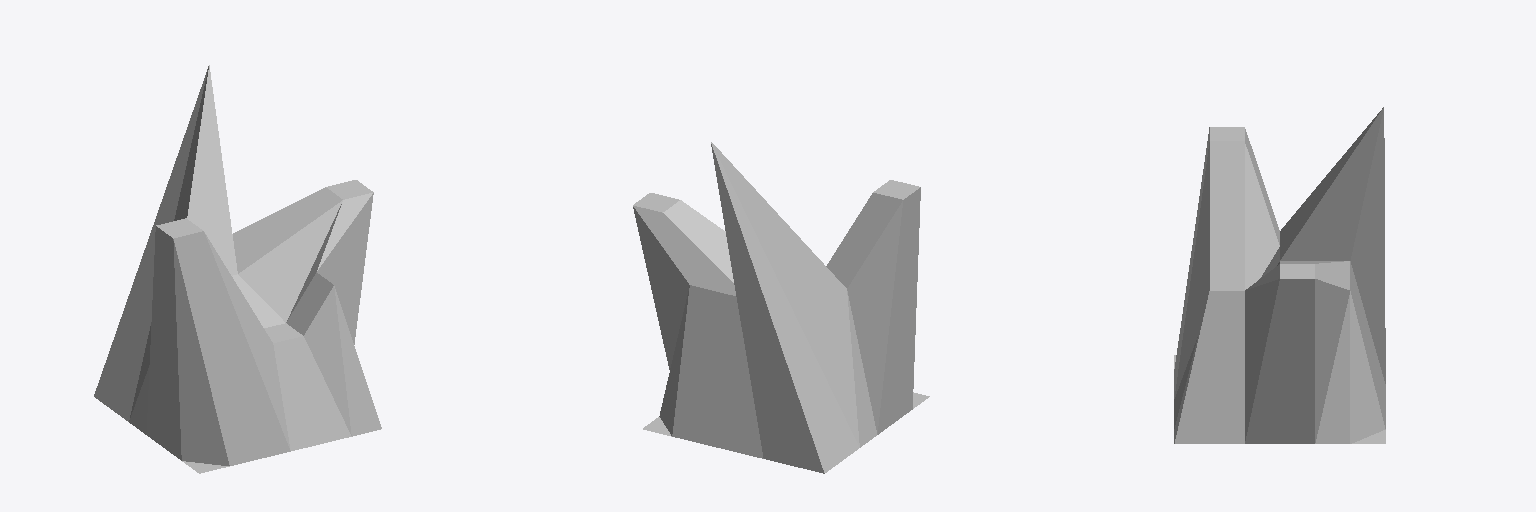
File: TestCrystal2.obj
The picture shows the model from 3 angles: view 1: azimuth 30°, elevation 25°; view 2: azimuth 150°, elevation 25°; view 3: azimuth 270°, elevation 25°; orthographic projection.
Visible parts, largest first — view 1: Cube_Cube.001; view 2: Cube_Cube.001; view 3: Cube_Cube.001.
Part boxes in pixels (x1,y1,x2,y2): Cube_Cube.001: (94, 65, 381, 473); Cube_Cube.001: (633, 142, 929, 473); Cube_Cube.001: (1174, 107, 1385, 443).
Size of the model in its own units: 1.93 by 2.39 by 1.5.